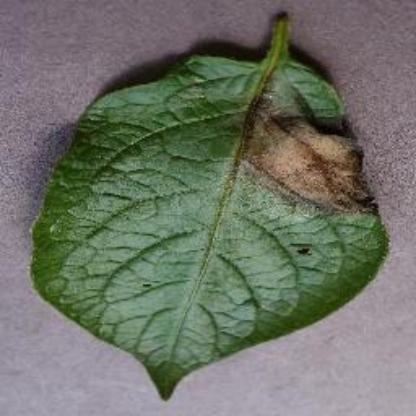Late-Blight: (29, 14, 404, 406)
